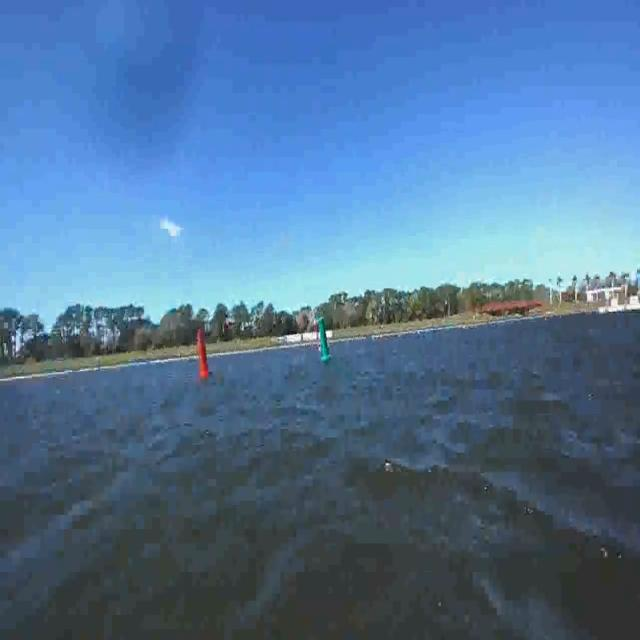green-column-buoy: (320, 318, 334, 364)
red-column-buoy: (198, 329, 212, 379)
